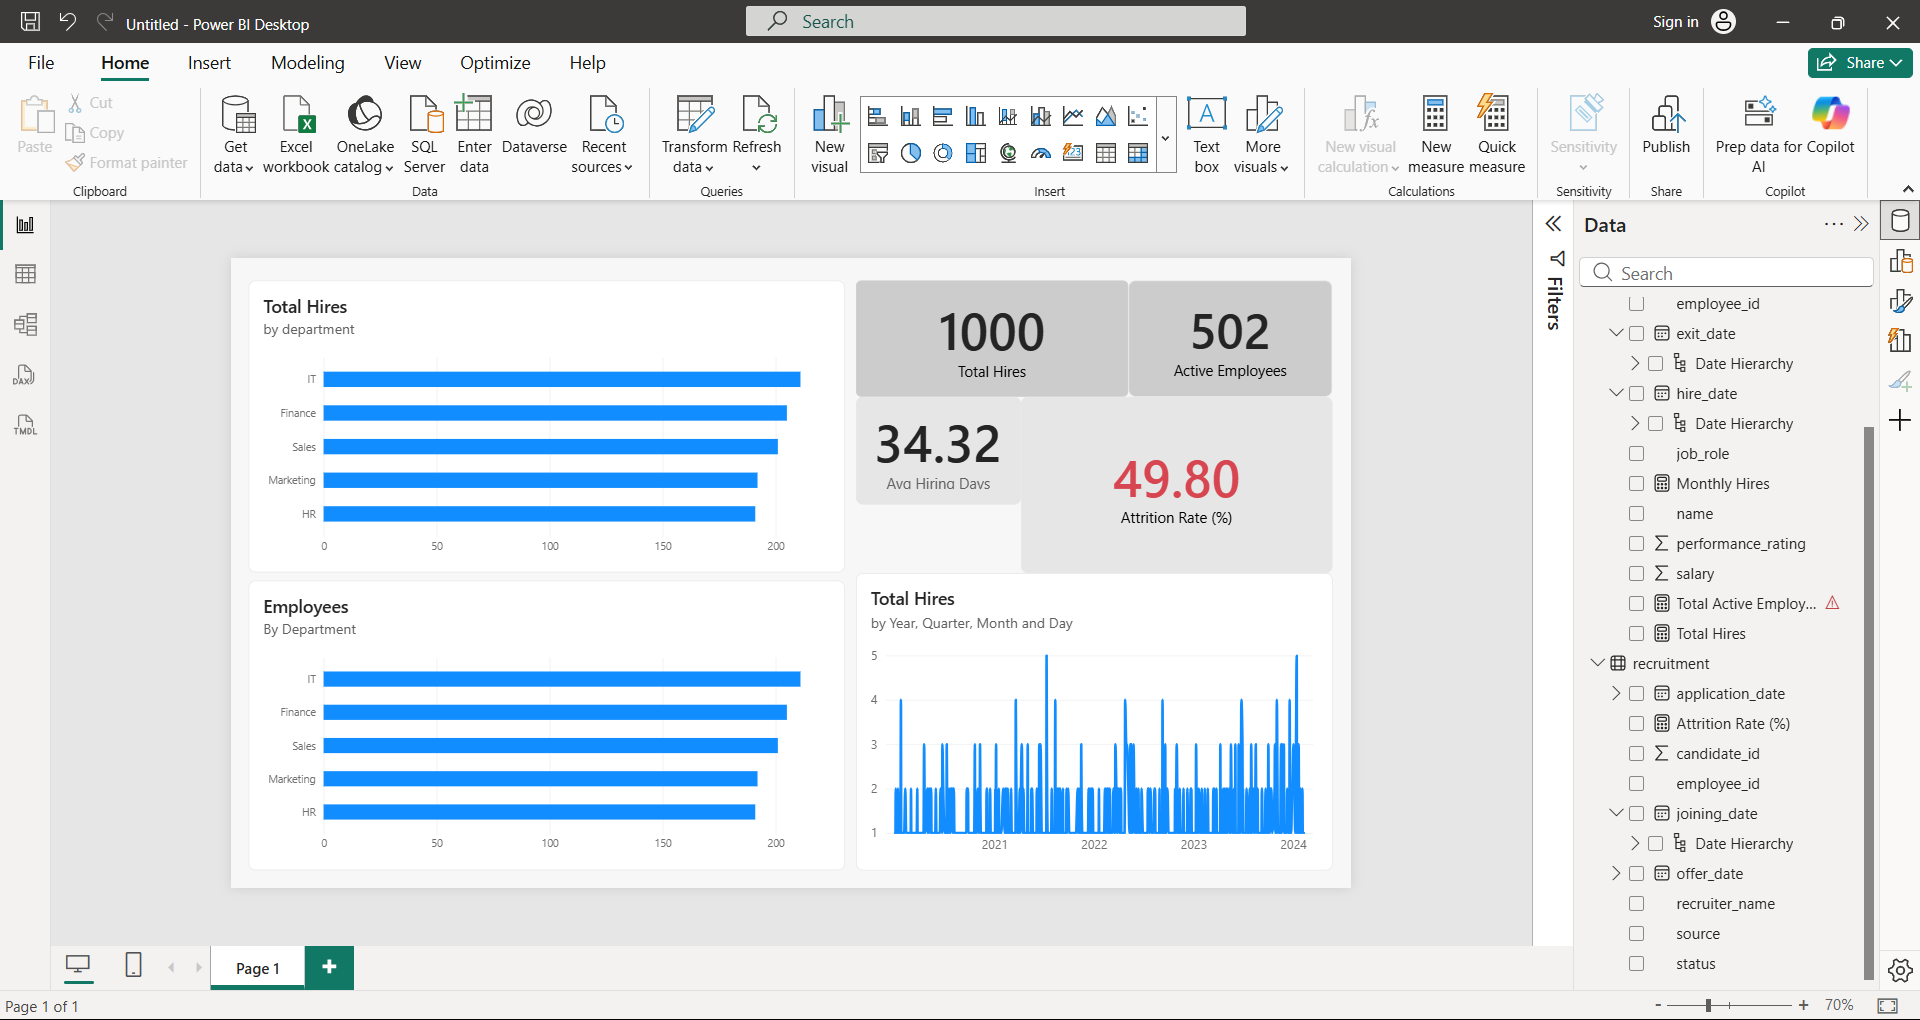

Layout of this report page (visuals, bound fields, positions):
{"tool":"powerbi","page":{"name":"Page 1","canvas":[1280,720],"ordinal":0},"visuals":[{"type":"card","fields":{"Values":["employees.Total Hires"]},"box":[714.3,25.7,311.4,132.9],"z":0},{"type":"card","fields":{"Values":["employees.Active Employees"]},"box":[1025.7,25.7,232.9,132.9],"z":1000},{"type":"card","fields":{"Values":["employees.Avg Hiring Days"]},"box":[714.3,158.6,188.6,122.9],"z":2000},{"type":"card","fields":{"Values":["recruitment.Attrition Rate (%)"]},"box":[902.9,158.6,355.7,201.4],"z":3000},{"type":"barChart","title":"Employees","fields":{"Category":["employees.department"],"Y":["CountNonNull(employees.department)"]},"box":[20,368.8,681.2,331.2],"z":4000},{"type":"barChart","fields":{"Category":["employees.department"],"Y":["employees.Total Hires"]},"box":[20,26.2,681.2,333.8],"z":5000},{"type":"lineChart","fields":{"Category":["recruitment.joining_date.Variation.Date Hierarchy.Year","recruitment.joining_date.Variation.Date Hierarchy.Quarter","recruitment.joining_date.Variation.Date Hierarchy.Month","recruitment.joining_date.Variation.Date Hierarchy.Day"],"Y":["employees.Total Hires"]},"box":[713.8,360,545,340],"z":6000}]}

Visuals, with their boxes on the page's 1280x720 design canvas (x1, y1, x2, y2). These are canvas units, not pixel positions in the 1920x1020 screenshot, which may show the page scaled, cropped or inside an application window:
card - employees.Total Hires: region(714, 26, 1026, 159)
card - employees.Active Employees: region(1026, 26, 1259, 159)
card - employees.Avg Hiring Days: region(714, 159, 903, 282)
card - recruitment.Attrition Rate (%): region(903, 159, 1259, 360)
"Employees" barChart: region(20, 369, 701, 700)
barChart - employees.department x employees.Total Hires: region(20, 26, 701, 360)
lineChart - recruitment.joining_date.Variation.Date Hierarchy.Year x recruitment.joining_date.Variation.Date Hierarchy.Quarter: region(714, 360, 1259, 700)
